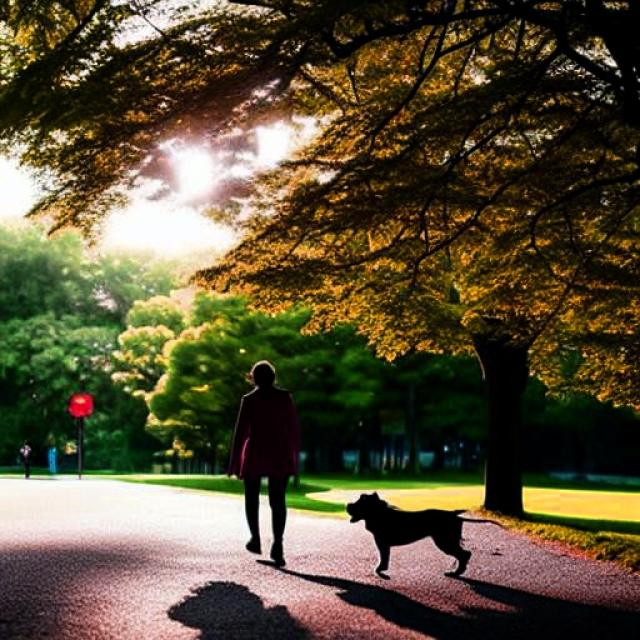Unleashed_Dog: (242, 475, 508, 579)
